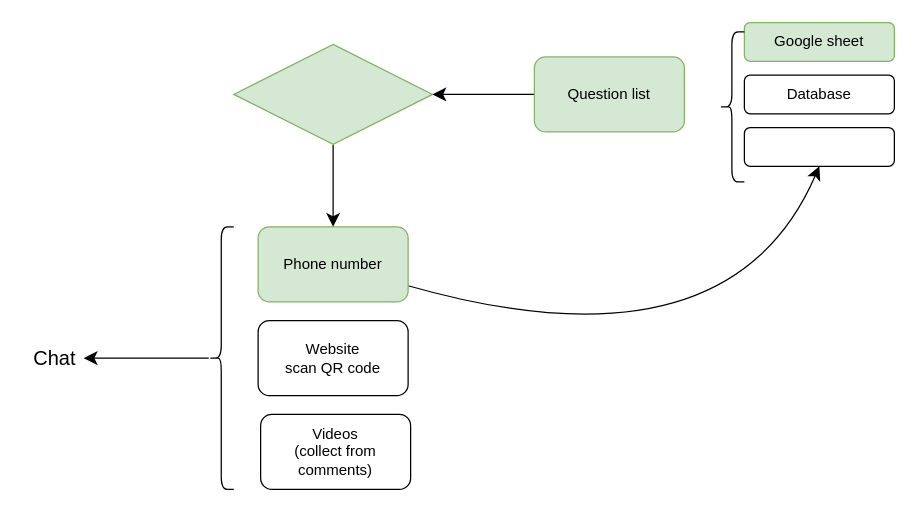
Image size: 916x511. Some labels were removed from this diagram. Here are the shapes that lost their labels. From the top down, the centre of each, then its label:
At [332,93]: "AI Model".
At [818,146]: "Notebook (notion)".
